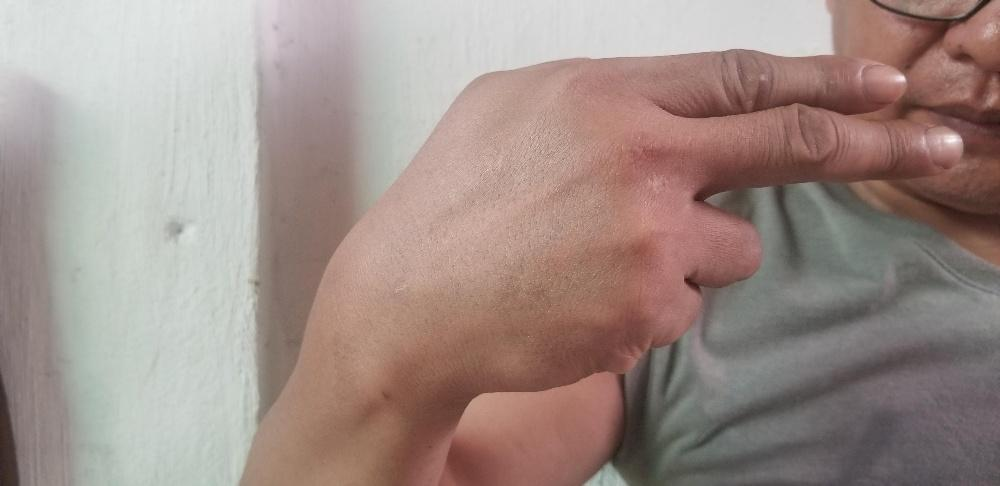h: (419, 51, 960, 392)
